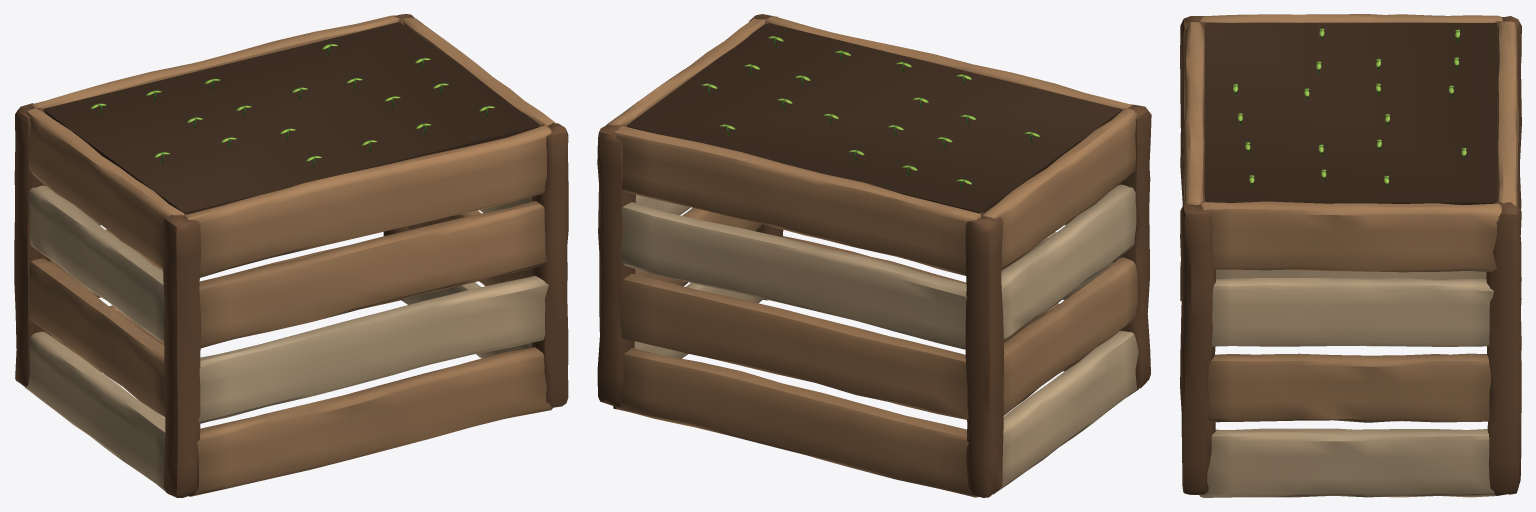
Rendered from canopy_planter_box.glb.
The picture shows the model from 3 angles, left to right: view 1: azimuth 30°, elevation 25°; view 2: azimuth 150°, elevation 25°; view 3: azimuth 270°, elevation 25°; orthographic projection. The views are drawn at different scales.
Visible parts, largest first — view 1: canopy_planter_box; view 2: canopy_planter_box; view 3: canopy_planter_box.
Part boxes in pixels (x1=…): canopy_planter_box: x1=14, y1=14, x2=568, y2=497; canopy_planter_box: x1=597, y1=14, x2=1151, y2=497; canopy_planter_box: x1=1180, y1=14, x2=1521, y2=497.
Bounding box in the file's own units: 14.32 × 10.02 × 10.29.
